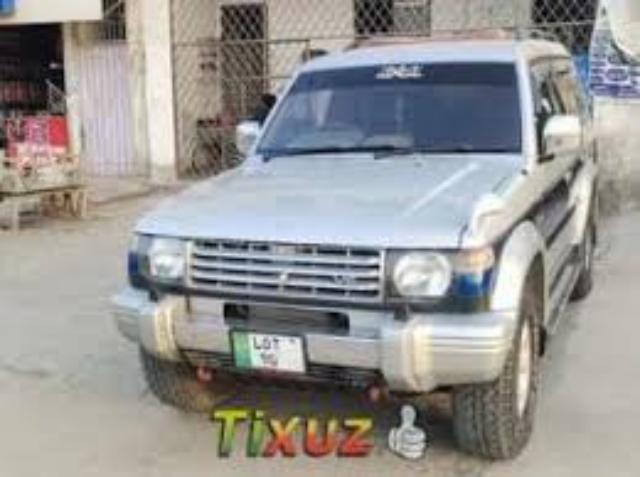plate: (212, 328, 316, 378)
